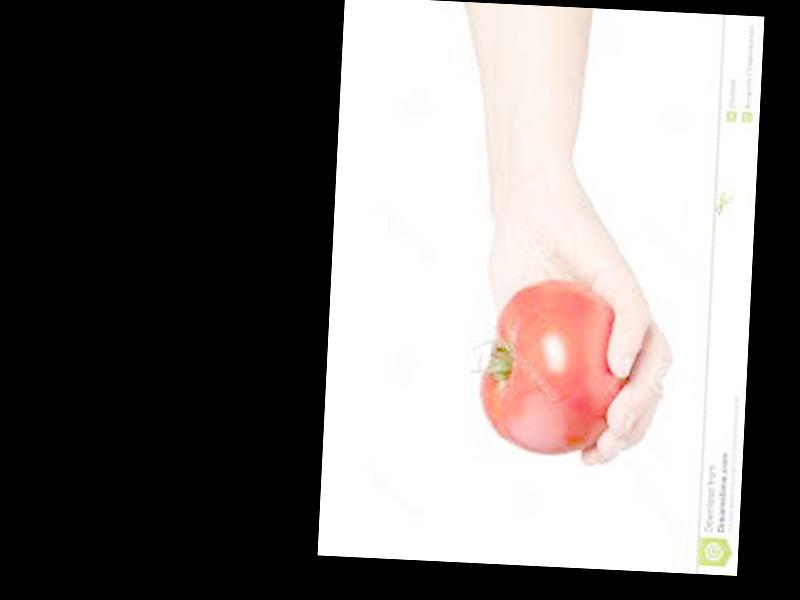Tomato: (475, 274, 631, 458)
